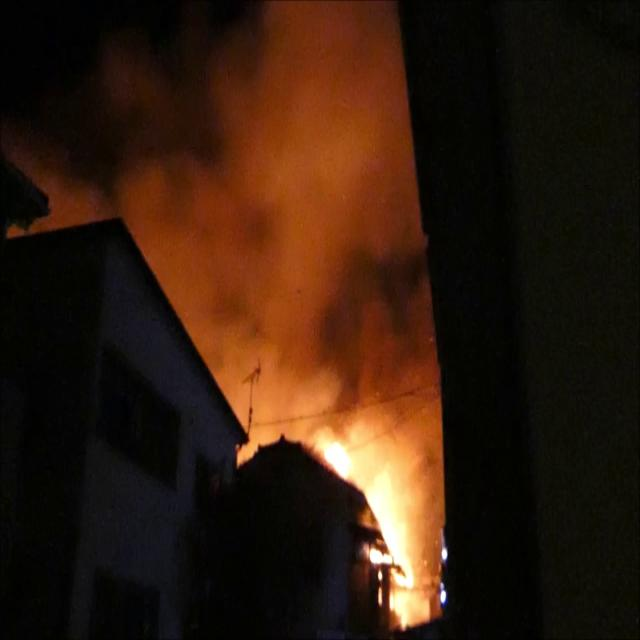Fire: (314, 410, 430, 628)
Smoke: (17, 0, 450, 488)
